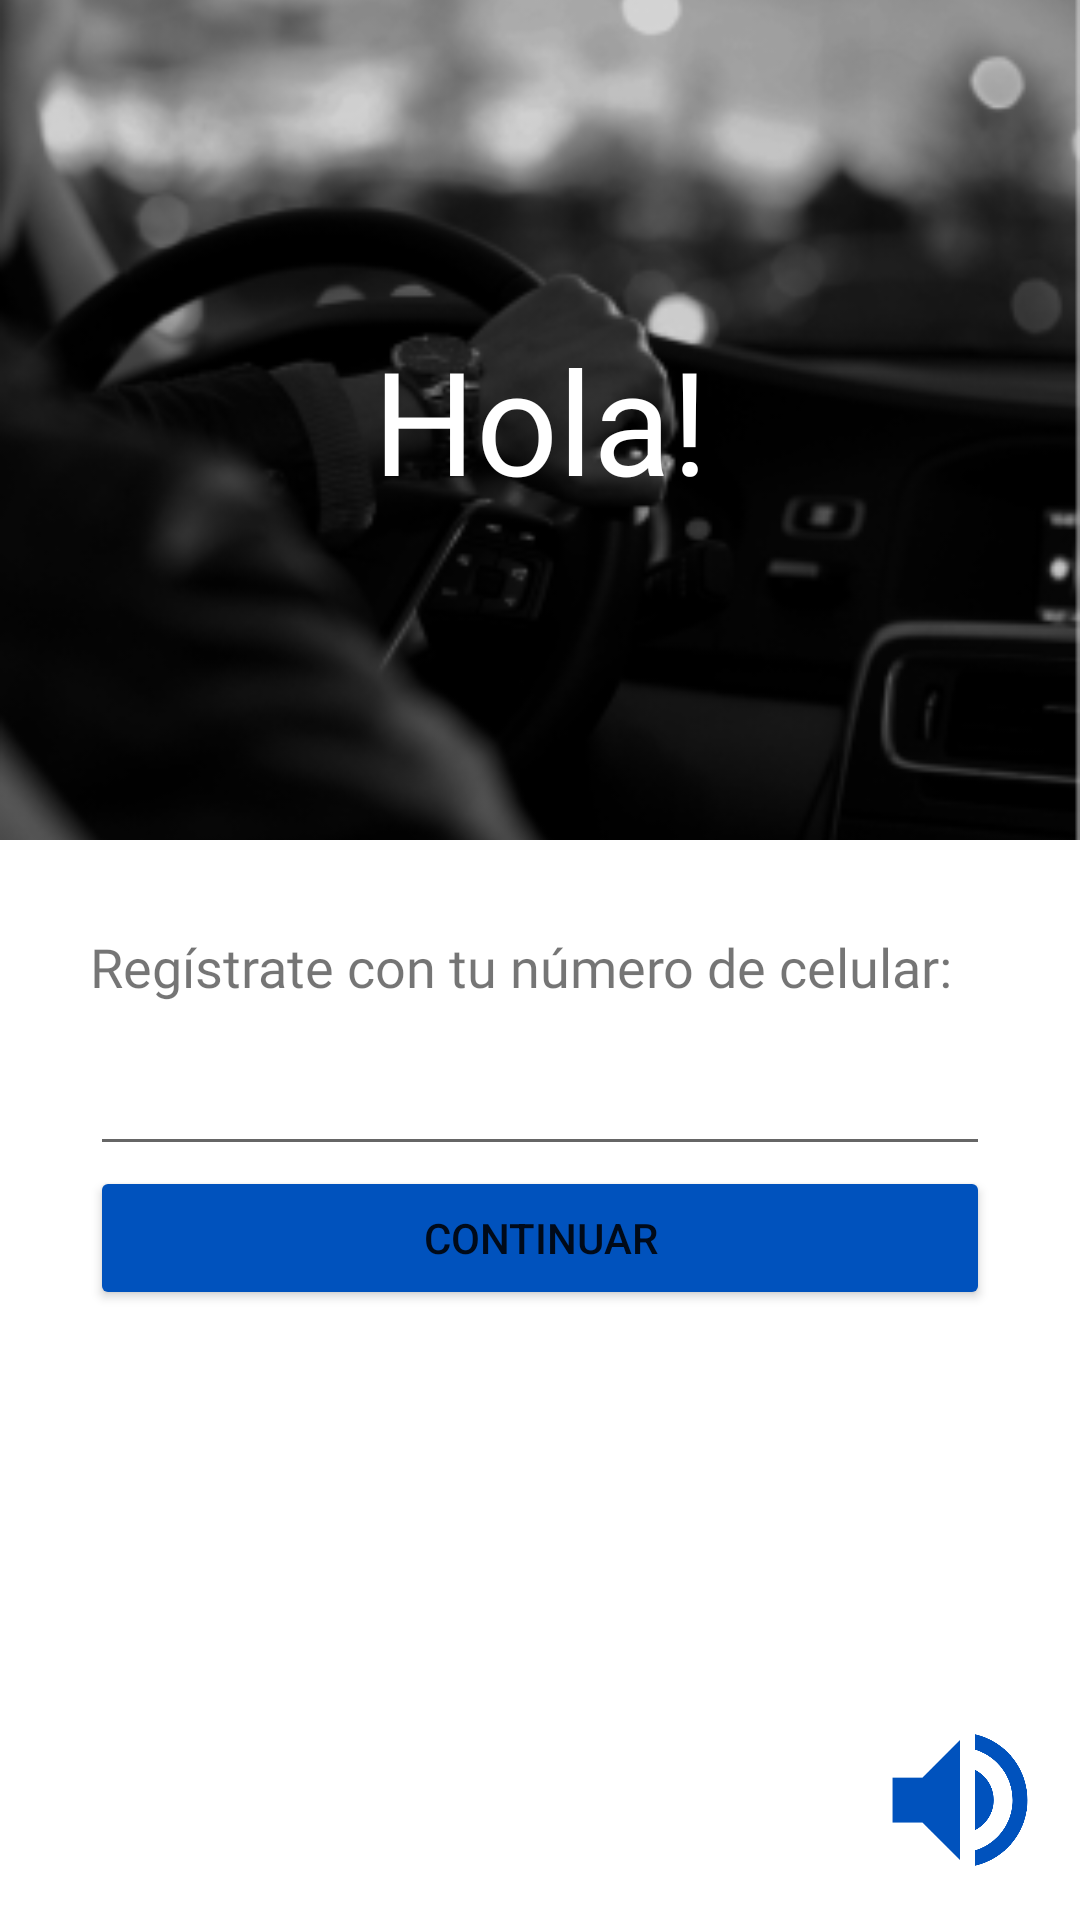

Named icons in this screenshot (1080 × 1920) and their centers, (x,y):
volume up: (960,1800)
